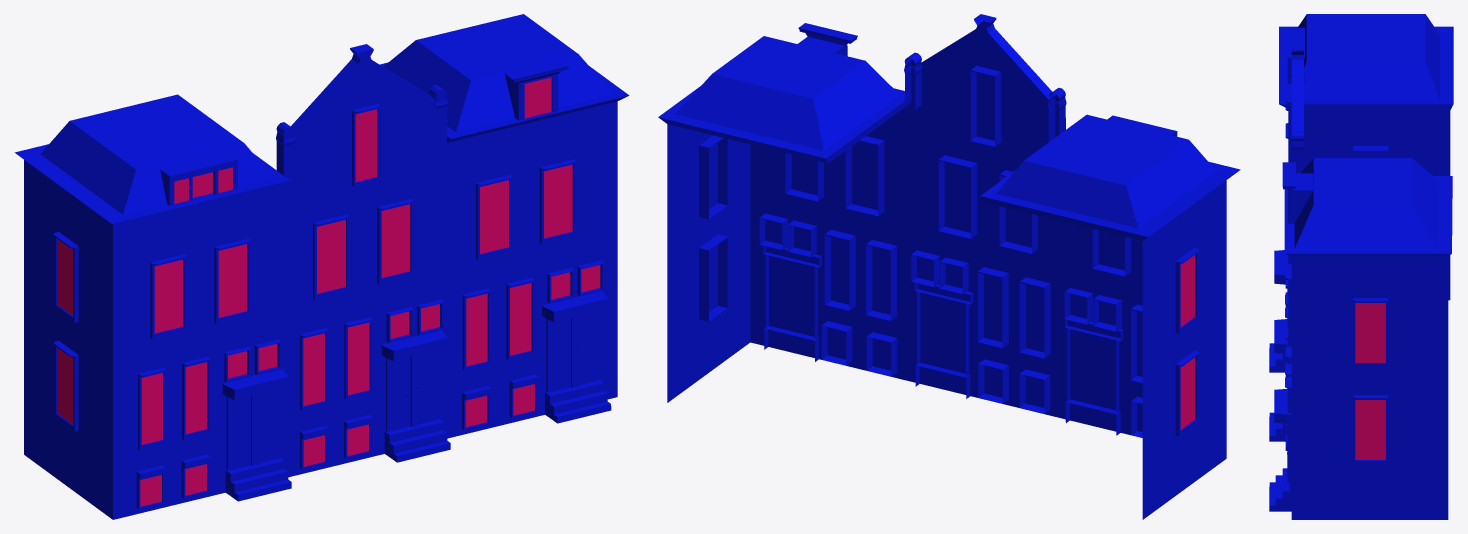
File: huis 5.fbx
3 renders of one model, left to right at view 1: azimuth 30°, elevation 25°; view 2: azimuth 150°, elevation 25°; view 3: azimuth 270°, elevation 25°, orthographic. The views are drawn at different scales.
Parts seen in each view (by area): view 1: Cube.001; view 2: Cube.001; view 3: Cube.001.
Part boxes in pixels (bbox=[...]): Cube.001: bbox=[14, 14, 629, 519]; Cube.001: bbox=[658, 14, 1240, 519]; Cube.001: bbox=[1269, 14, 1453, 519].
Size of the model in its own units: 12.02 by 9 by 4.13.
